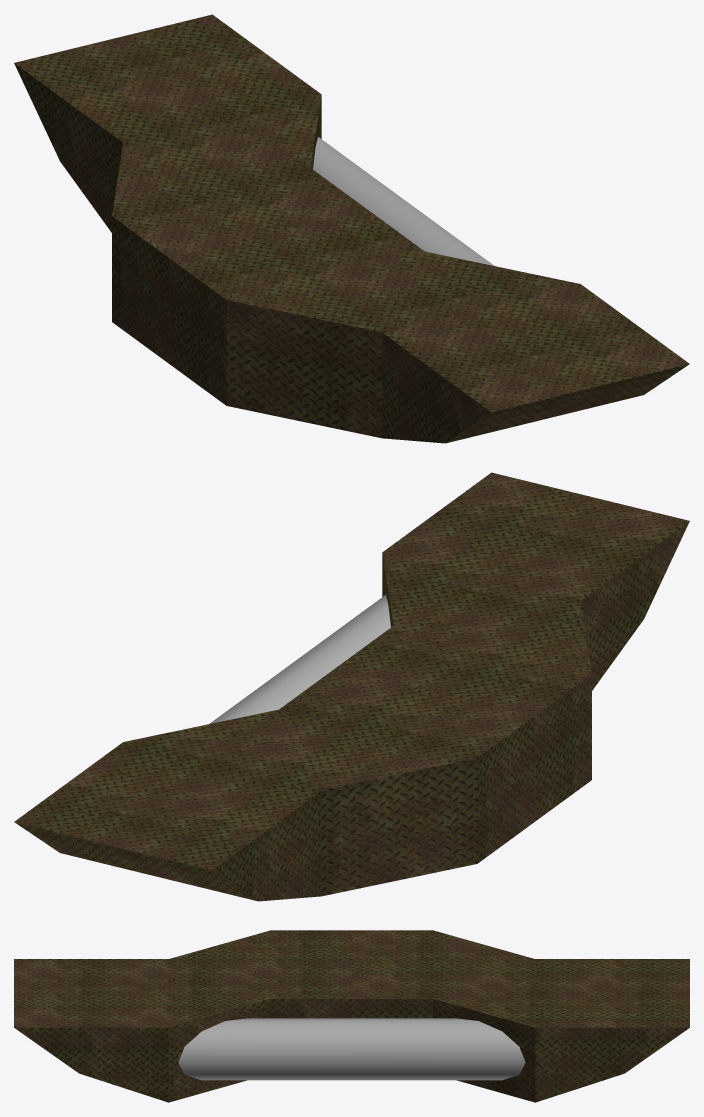
File: block_celling_1_geo.fbx
3 renders of one model, top to bottom at view 1: azimuth 30°, elevation 25°; view 2: azimuth 150°, elevation 25°; view 3: azimuth 270°, elevation 25°, orthographic. The views are drawn at different scales.
Visible parts, largest first — view 1: block_celling_1_geo; view 2: block_celling_1_geo; view 3: block_celling_1_geo.
Part boxes in pixels (left/top/right/bottom): block_celling_1_geo: left=14, top=14, right=689, bottom=443; block_celling_1_geo: left=14, top=472, right=689, bottom=901; block_celling_1_geo: left=14, top=930, right=689, bottom=1102.
Bounding box in the file's own units: 530 × 190 × 1554.
